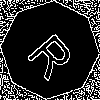R: (25, 25, 83, 82)
